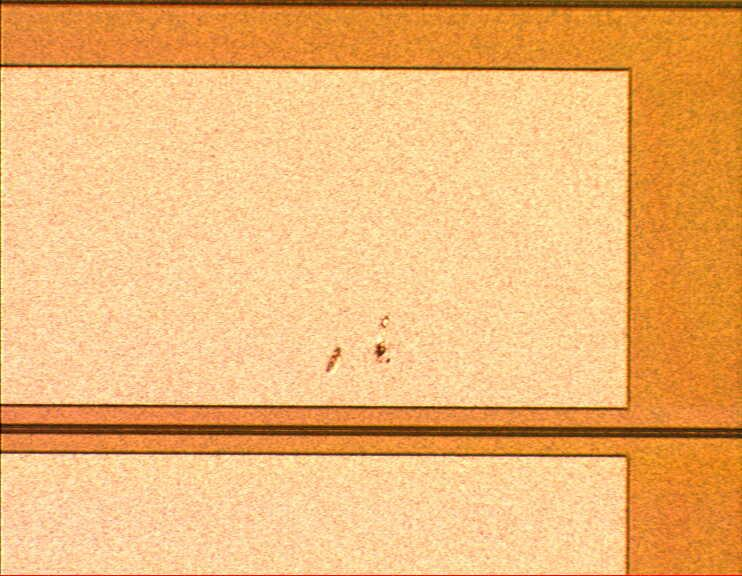SCRATCH: (313, 315, 413, 383)
